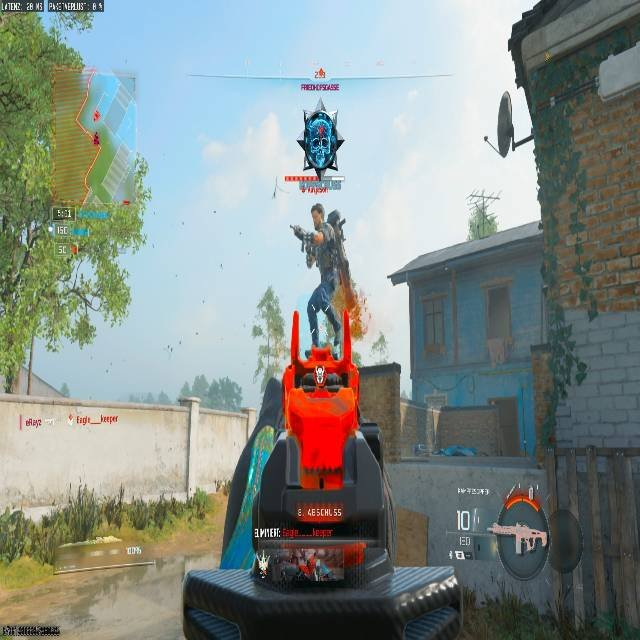head: (310, 203, 324, 225)
player: (291, 203, 349, 361), (298, 104, 345, 178)
